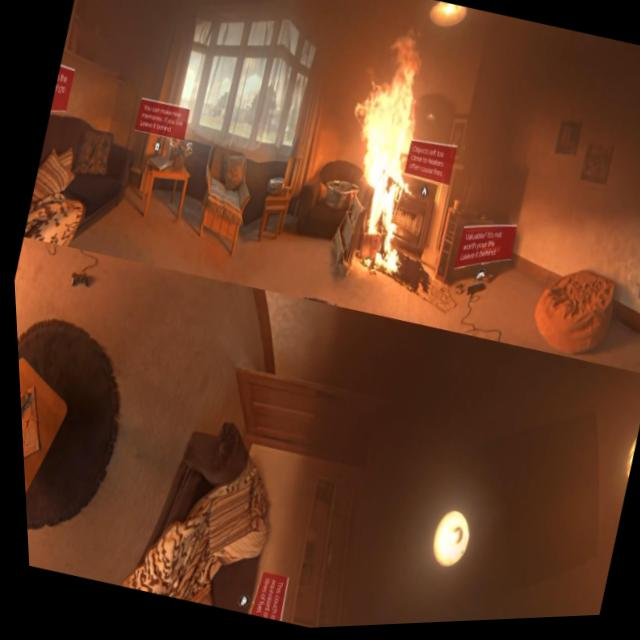fire: (307, 36, 457, 291)
